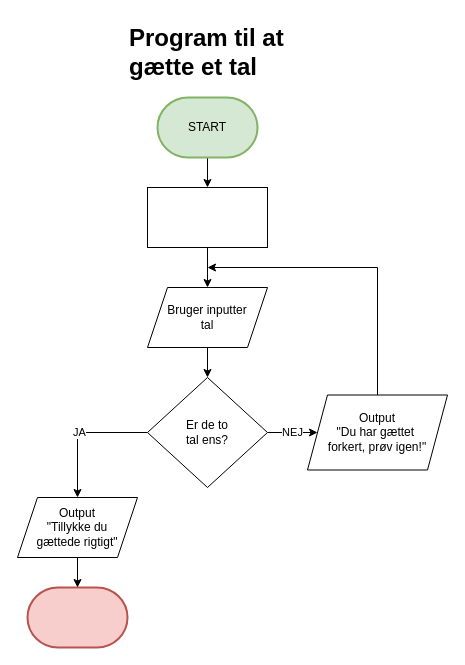
Some shapes in this 465 by 665 pixel diagram are drawn without their labels. Here are the shapes that lost their labels. From the top down, the box of each, then its label:
(146, 186, 268, 248): Opret hemmeligt tal
(26, 586, 128, 648): STOP
